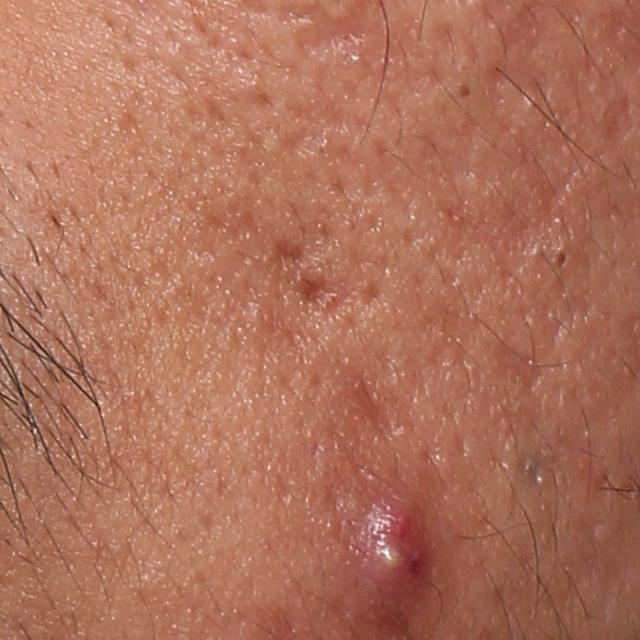atrophic_scar: (427, 151, 604, 279), (346, 370, 403, 442), (267, 219, 329, 274), (485, 338, 546, 392), (290, 272, 345, 318), (500, 4, 543, 52), (600, 90, 634, 149), (353, 276, 387, 307)
comedo: (547, 243, 577, 273), (453, 76, 480, 103)
pustule: (348, 483, 425, 638)
